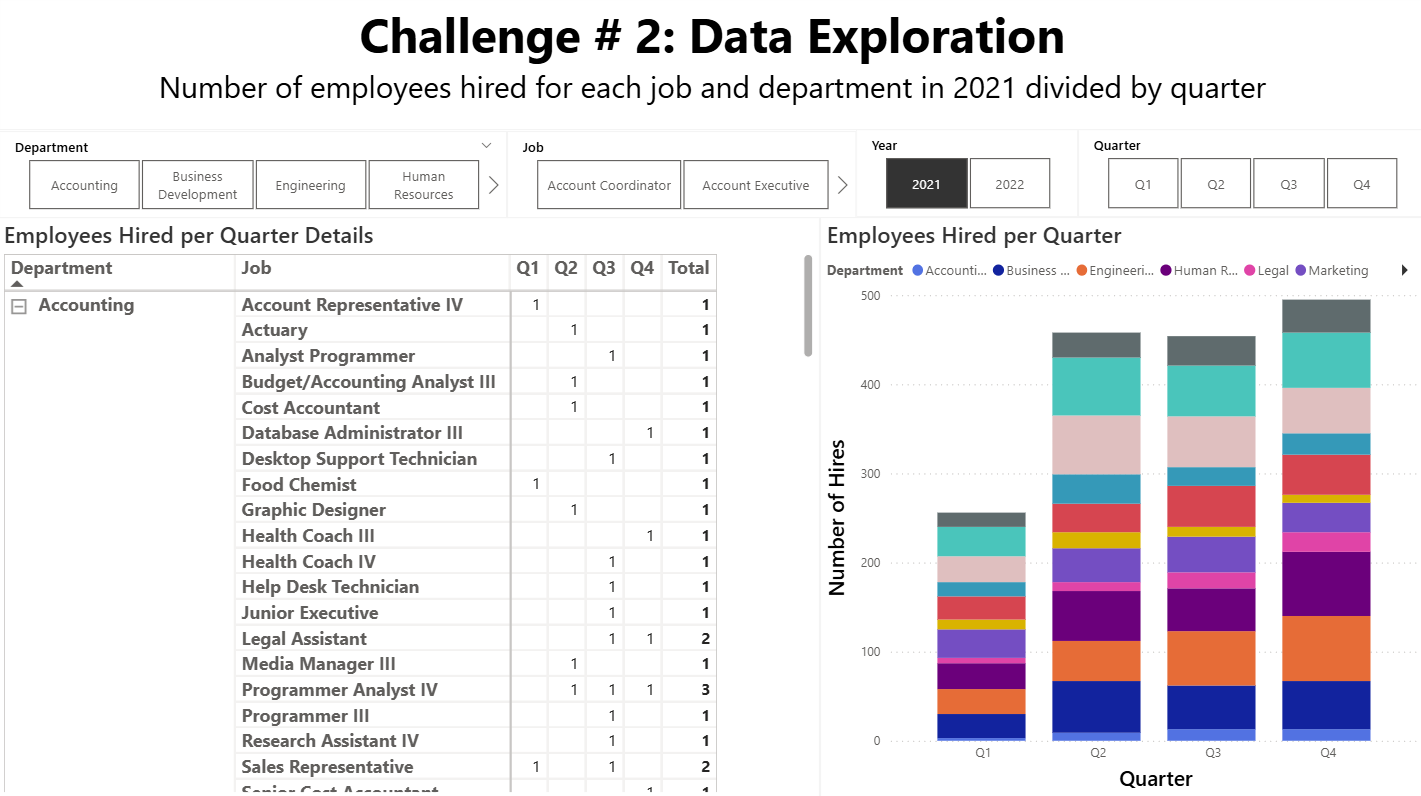

Layout of this report page (visuals, bound fields, positions):
{"tool":"powerbi","page":{"name":"HiresPerDepartment","canvas":[1280,720],"ordinal":0},"visuals":[{"type":"pivotTable","title":"Employees Hired per Quarter Details","fields":{"Rows":["Departments.department","Jobs.job"],"Columns":["DimDate.Year","DimDate.QuarterName"],"Values":["CountNonNull(HiredEmployees.id)"]},"box":[0,199.2,736.7,521.4],"z":0},{"type":"slicer","fields":{"Values":["Departments.department"]},"box":[1.6,121.4,455,77.7],"z":1000},{"type":"slicer","fields":{"Values":["DimDate.Year"]},"box":[769.1,119.8,199.2,79.3],"z":2000},{"type":"slicer","fields":{"Values":["DimDate.QuarterName"]},"box":[968.3,119.8,310.9,79.3],"z":3000},{"type":"slicer","fields":{"Values":["Jobs.job"]},"box":[456.6,121.4,312.5,77.7],"z":4000},{"type":"columnChart","title":"Employees Hired per Quarter","fields":{"Category":["DimDate.Year","DimDate.QuarterName"],"Y":["CountNonNull(HiredEmployees.id)"],"Series":["Departments.department"]},"box":[736.7,199.2,544.1,521.4],"z":5000},{"type":"textbox","box":[1.6,0,1277.6,121.4],"z":6000}]}

Visuals, with their boxes in screenshot pixels (x1, y1, x2, y2), scaled from the page's 1280x720 canvas onto the 1421x796 screenshot:
"Employees Hired per Quarter Details" pivotTable: (0,220,818,795)
slicer - Departments.department: (2,134,507,220)
slicer - DimDate.Year: (854,132,1075,220)
slicer - DimDate.QuarterName: (1075,132,1420,220)
slicer - Jobs.job: (507,134,854,220)
"Employees Hired per Quarter" columnChart: (818,220,1420,795)
textbox: (2,0,1420,134)
